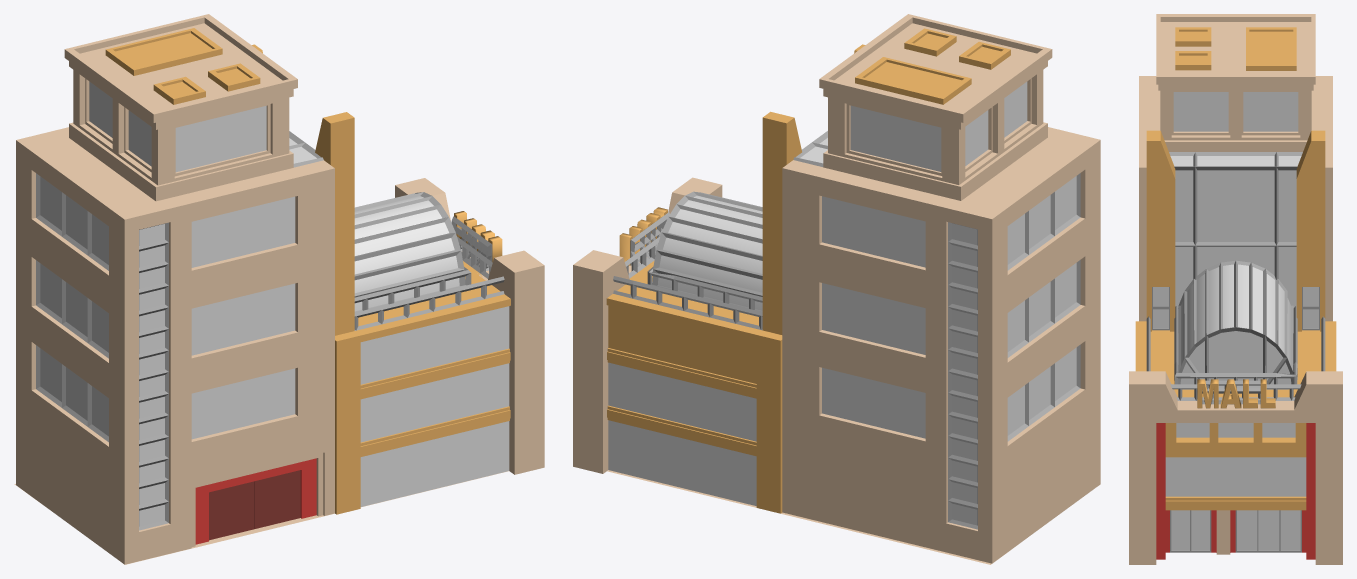
The model's file is mall_2.2.1.fbx.
3 renders of one model, left to right at view 1: azimuth 30°, elevation 25°; view 2: azimuth 150°, elevation 25°; view 3: azimuth 270°, elevation 25°, orthographic. The views are drawn at different scales.
Visible parts, largest first — view 1: Mall; view 2: Mall; view 3: Mall.
Boxes of the visible parts, box(x1,y1,x2,y2) form: Mall: box(14, 14, 544, 564); Mall: box(573, 14, 1100, 564); Mall: box(1129, 14, 1342, 564).
Size of the model in its own units: 160 by 160 by 80.
